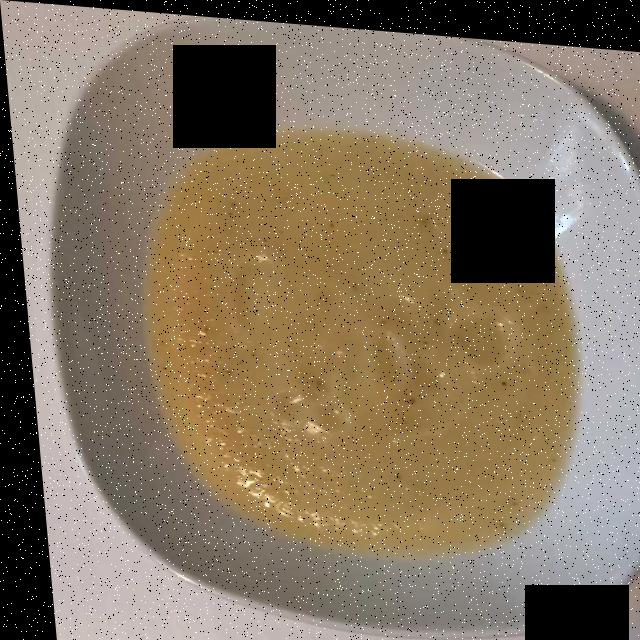soup-pumpkin: (143, 125, 570, 548)
